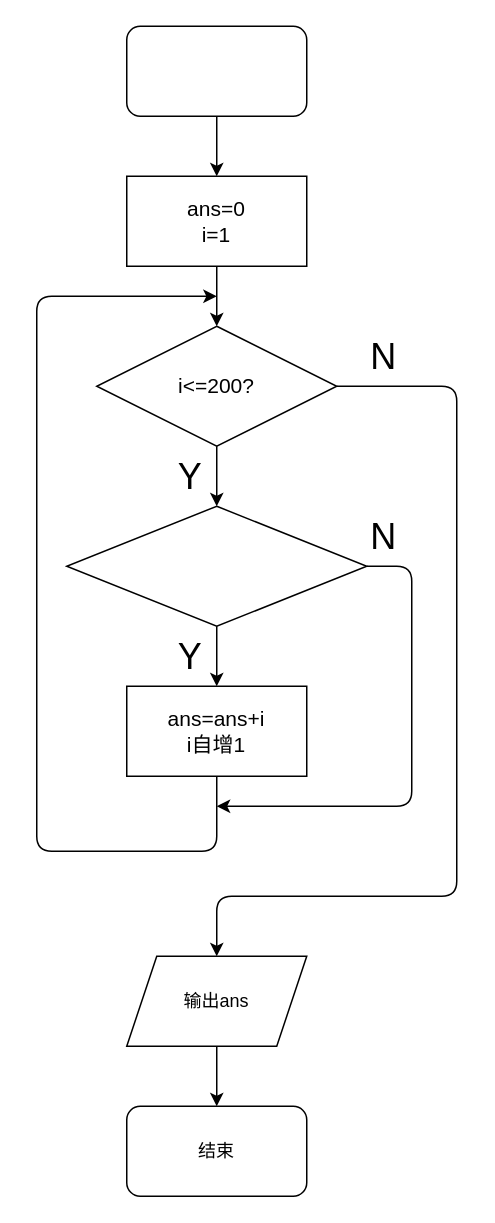
Some shapes in this 495 by 1223 pixel diagram are drawn without their labels. The shapes that lost their labels are listed below. From the top down, each one's centre as x and y in pixels, then its label:
At pixel 216 70: "开始".
At pixel 216 565: "(i%3==0 && i%5!=0)?".
